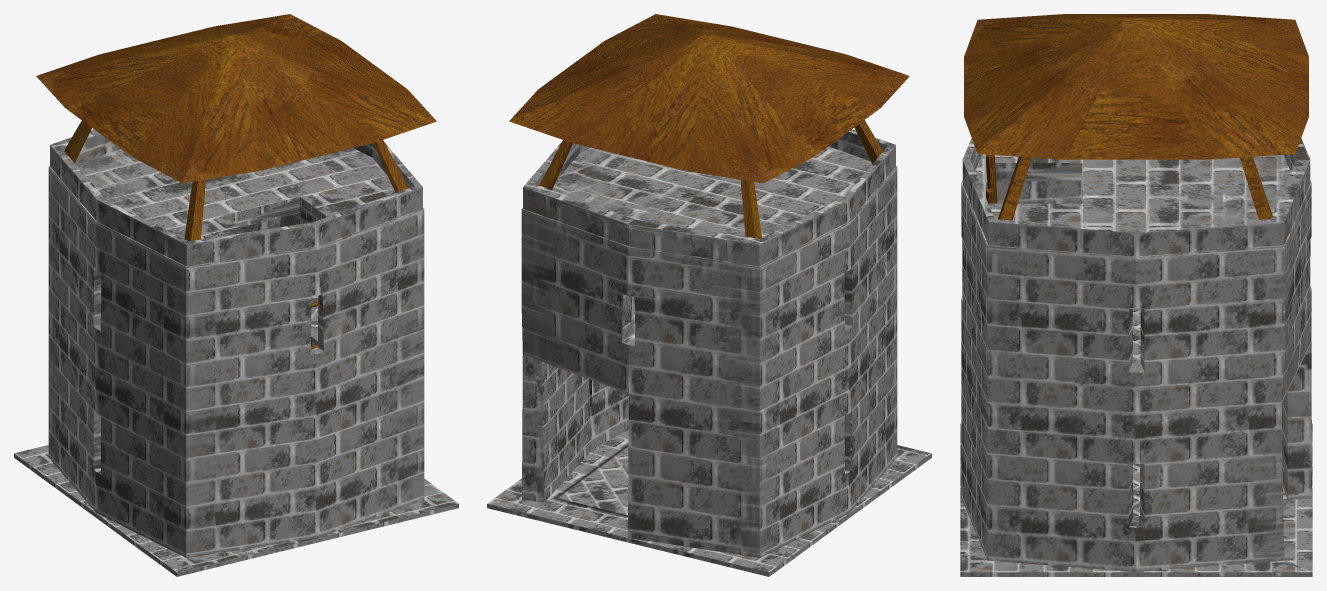
Rendered from guard_tower_pos.obj.
3 views of the same model, side by side, from view 1: azimuth 30°, elevation 25°; view 2: azimuth 150°, elevation 25°; view 3: azimuth 270°, elevation 25° (orthographic). The views are drawn at different scales.
Bounding box in the file's own units: 4 × 5.99 × 4.
